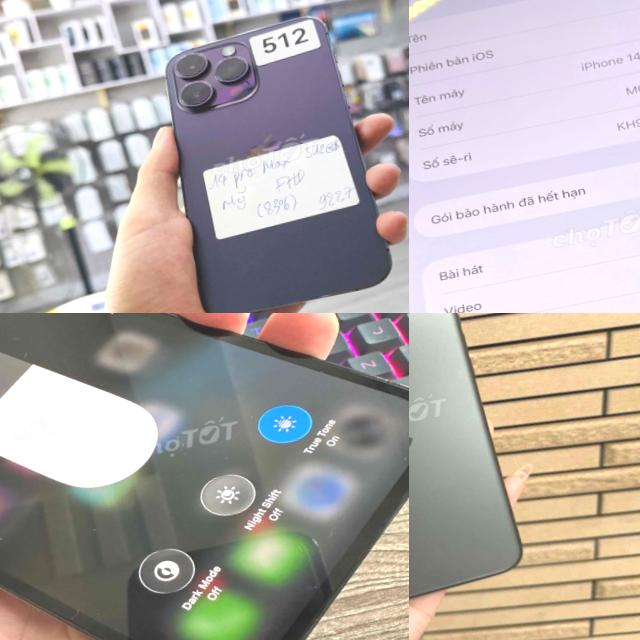gen_11: (409, 313, 537, 633)
gen_12_13: (0, 313, 409, 640)
gen_14: (147, 5, 403, 313), (409, 0, 640, 313)
